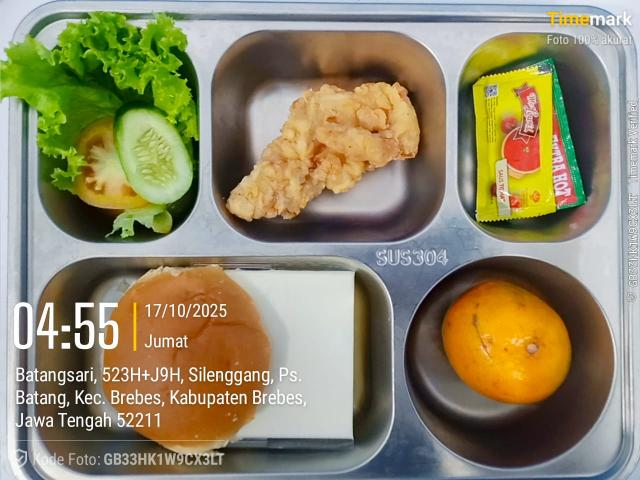ayam: (227, 85, 351, 221), (348, 84, 418, 171), (330, 162, 362, 192), (332, 128, 356, 168)
buah: (442, 281, 571, 404)
roti: (104, 266, 270, 452)
sayur: (0, 12, 198, 238)
